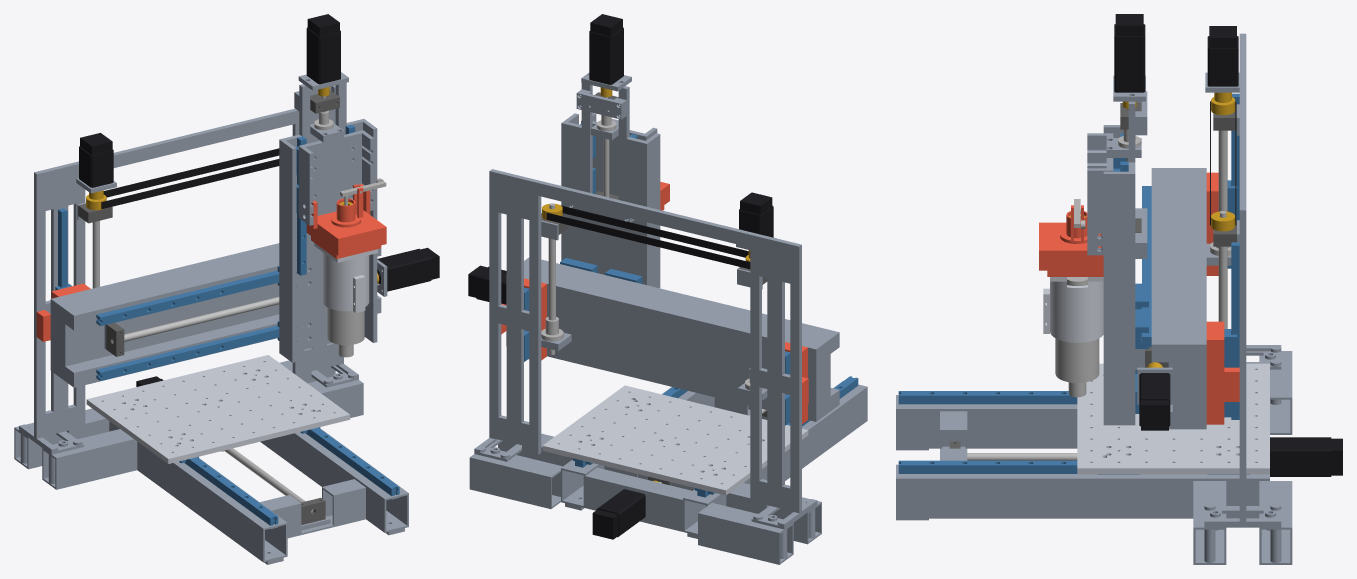
The model's file is pro_dock.glb.
3 renders of one model, left to right at view 1: azimuth 30°, elevation 25°; view 2: azimuth 150°, elevation 25°; view 3: azimuth 270°, elevation 25°, orthographic. The views are drawn at different scales.
Visible parts, largest first — view 1: beam, table, x_carriage, upright_L, frame_cross_rear, frame_longeron_L, z_slide, frame_longeron_R, lift_tie, frame_cross_bf, head_mount, tooldock_master (+19 smaller); view 2: beam, table, upright_R, upright_L, frame_cross_rear, x_carriage, lift_tie, frame_longeron_L, frame_cross_end, z_motor, y_motor, lift_belt_b (+7 smaller); view 3: frame_longeron_R, beam, table, x_carriage, frame_longeron_L, frame_cross_rear, upright_R, head_mount, y_motor, y_rail_R, z_motor, y_rail_L (+18 smaller).
Boxes of the visible parts, bbox=[...] form: beam: bbox=[50, 243, 387, 387]; table: bbox=[86, 355, 350, 463]; x_carriage: bbox=[279, 82, 377, 362]; upright_L: bbox=[19, 177, 85, 454]; frame_cross_rear: bbox=[14, 360, 363, 489]; frame_longeron_L: bbox=[109, 421, 287, 564]; z_slide: bbox=[298, 130, 374, 225]; frame_longeron_R: bbox=[260, 428, 408, 535]; lift_tie: bbox=[34, 108, 335, 186]; frame_cross_bf: bbox=[260, 479, 365, 538]; head_mount: bbox=[314, 243, 377, 312]; tooldock_master: bbox=[305, 184, 386, 255]; beam: bbox=[506, 257, 839, 421]; table: bbox=[542, 385, 808, 495]; upright_R: bbox=[474, 184, 541, 461]; upright_L: bbox=[750, 247, 817, 529]; frame_cross_rear: bbox=[469, 433, 821, 564]; x_carriage: bbox=[561, 83, 660, 288]; lift_tie: bbox=[489, 169, 801, 259]; frame_longeron_L: bbox=[683, 381, 867, 538]; frame_cross_end: bbox=[585, 467, 691, 531]; z_motor: bbox=[589, 14, 623, 84]; y_motor: bbox=[592, 489, 645, 539]; lift_belt_b: bbox=[546, 212, 750, 269]; frame_longeron_R: bbox=[896, 464, 1269, 520]; beam: bbox=[1137, 168, 1206, 429]; table: bbox=[1077, 363, 1269, 474]; x_carriage: bbox=[1103, 101, 1135, 425]; frame_longeron_L: bbox=[896, 395, 1077, 450]; frame_cross_rear: bbox=[1193, 351, 1292, 564]; upright_R: bbox=[1204, 225, 1281, 527]; head_mount: bbox=[1043, 277, 1103, 342]; y_motor: bbox=[1270, 437, 1342, 476]; y_rail_R: bbox=[898, 460, 1077, 473]; z_motor: bbox=[1114, 14, 1145, 92]; y_rail_L: bbox=[898, 391, 1077, 404].
Size of the model in its own units: 893 by 1025 by 813.
